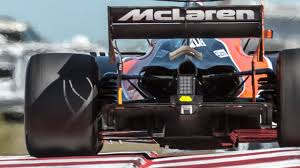f1_car: (20, 1, 300, 159)
